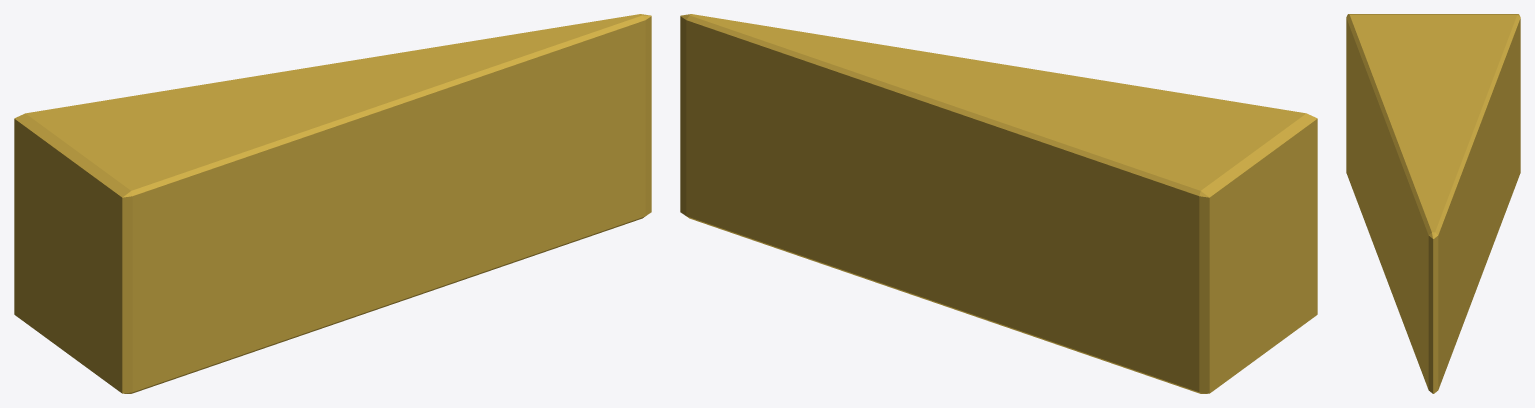
Rendered from cheese2.obj.
The picture shows the model from 3 angles, left to right: view 1: azimuth 30°, elevation 25°; view 2: azimuth 150°, elevation 25°; view 3: azimuth 270°, elevation 25°; orthographic projection. The views are drawn at different scales.
Parts seen in each view (by area): view 1: 立方体; view 2: 立方体; view 3: 立方体.
Part boxes in pixels (box(x1,y1,x2,y2)): 立方体: box(14, 14, 651, 393); 立方体: box(680, 14, 1317, 393); 立方体: box(1346, 14, 1520, 393).
Size of the model in its own units: 6.01 by 2 by 1.97.
